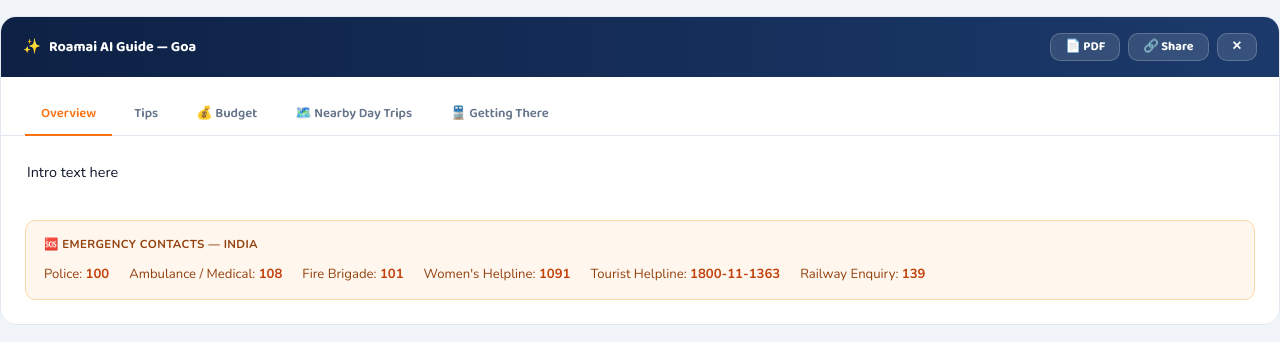
Test case: AIResultBox › shows the content of the active AI tab
The width and height of the screenshot is (1280, 342).
Expected: the text "Intro text here" is shown, [27,162,118,182]
Click the button "Tips" at (146, 115), box [118,94,174,136]
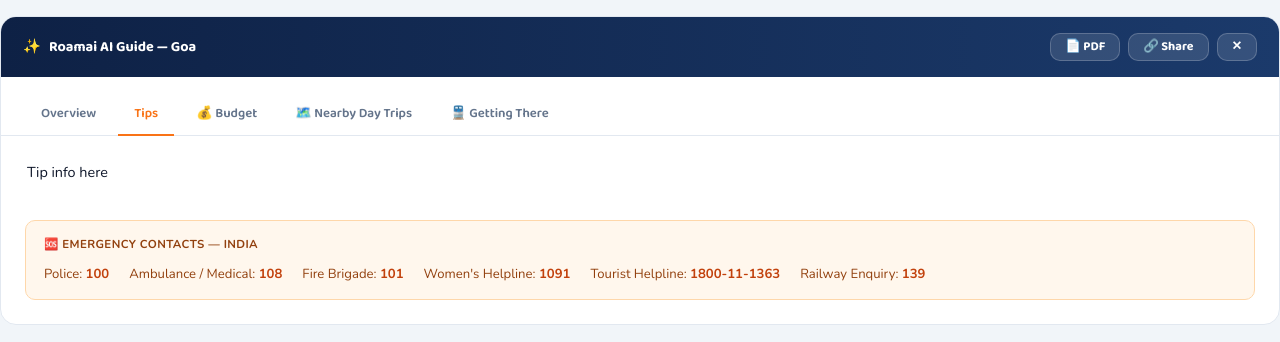
Now the text "Tip info here" is shown, box [27,162,108,182]
